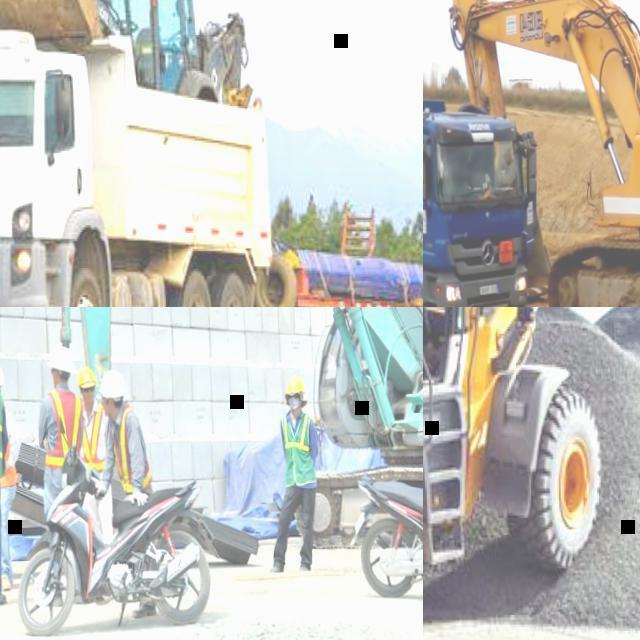helmet: (48, 346, 76, 374), (99, 370, 126, 396), (77, 367, 96, 389), (286, 376, 305, 394), (0, 366, 4, 388)
machinery: (53, 307, 423, 553), (0, 15, 272, 307), (423, 307, 640, 640), (447, 0, 640, 307), (0, 0, 255, 114), (423, 96, 543, 307)
mask: (288, 398, 300, 411)
no_mask: (84, 392, 96, 404), (102, 404, 114, 416), (50, 378, 59, 387)
person: (98, 370, 158, 618), (34, 344, 88, 606), (262, 373, 320, 574), (78, 364, 112, 602), (0, 366, 26, 588), (0, 340, 12, 608)
vest: (109, 402, 154, 496), (42, 388, 84, 468), (282, 412, 316, 483), (78, 398, 108, 472), (0, 438, 19, 488)
